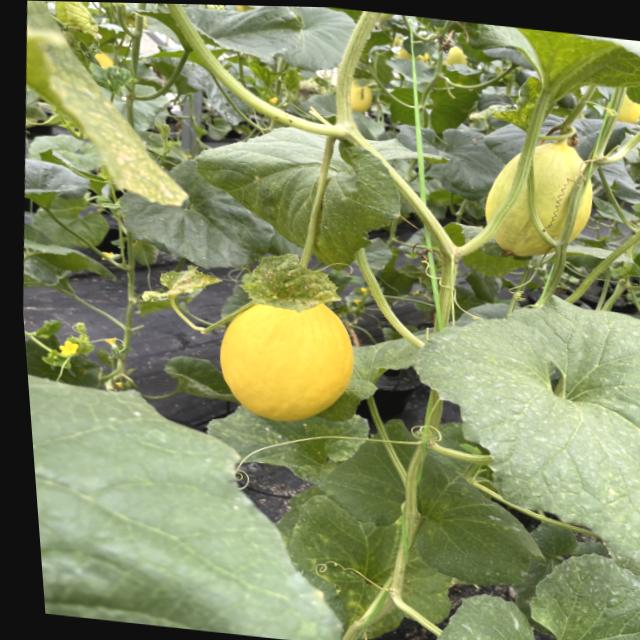CMV: (432, 19, 640, 103)
SLCV: (225, 246, 341, 320)
downy mildew: (398, 283, 640, 579), (178, 101, 439, 274), (282, 420, 545, 590), (506, 544, 640, 640), (416, 574, 540, 640)
healthy: (136, 3, 339, 73)
